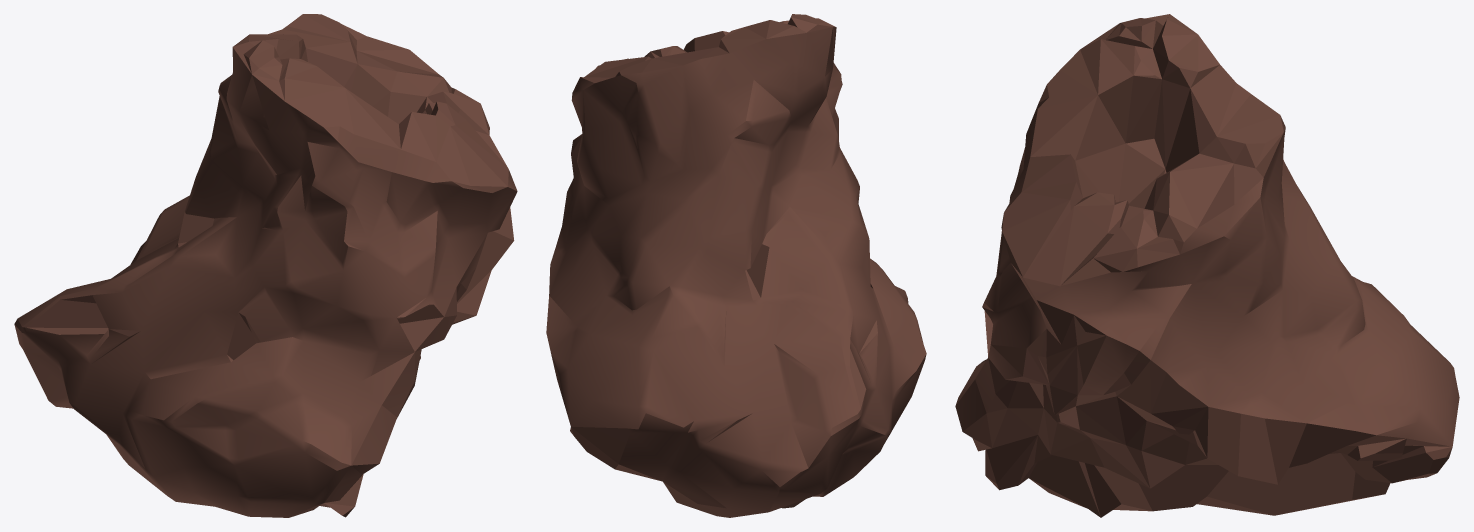
File: p_mesh_hvs_stalagmite_large02_destruction_part07.fbx
3 renders of one model, left to right at view 1: azimuth 30°, elevation 25°; view 2: azimuth 150°, elevation 25°; view 3: azimuth 270°, elevation 25°, orthographic. The views are drawn at different scales.
Parts seen in each view (by area): view 1: p_large02_part7; view 2: p_large02_part7; view 3: p_large02_part7.
Part boxes in pixels (x1,y1,x2,y2): p_large02_part7: (14,14,517,517); p_large02_part7: (546,14,926,517); p_large02_part7: (955,14,1459,517).
Size of the model in its own units: 9.66 by 11.13 by 9.97.
